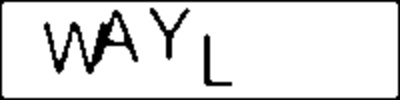A: (96, 5, 143, 67)
L: (198, 29, 236, 89)
W: (43, 20, 109, 75)
Y: (146, 4, 192, 65)
